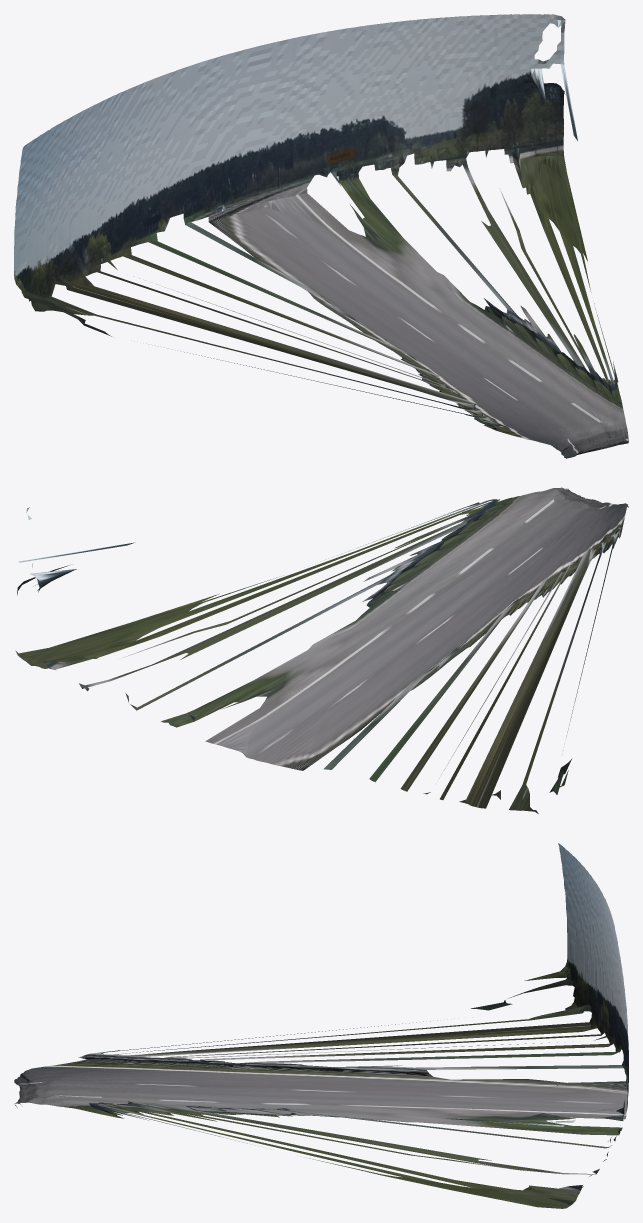
3 views of the same model, one above another, from view 1: azimuth 30°, elevation 25°; view 2: azimuth 150°, elevation 25°; view 3: azimuth 270°, elevation 25° (orthographic). The views are drawn at different scales.
Parts seen in each view (by area): view 1: defaultobject; view 2: defaultobject; view 3: defaultobject.
Part boxes in pixels (x1=…): defaultobject: x1=14, y1=14, x2=628, y2=458; defaultobject: x1=15, y1=487, x2=628, y2=813; defaultobject: x1=14, y1=843, x2=628, y2=1208.
Size of the model in its own units: 41.16 by 13.26 by 44.62.
Materials: 1 (1 with a texture image).
